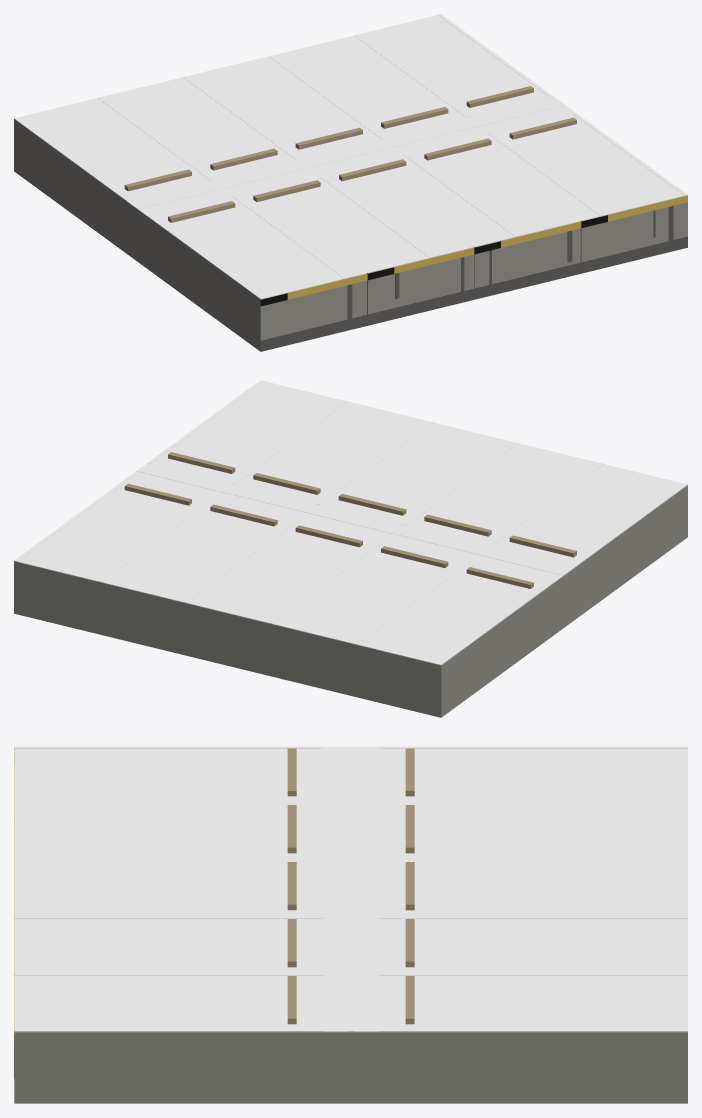
The model's file is garage_level.glb.
3 views of the same model, one above another, from view 1: azimuth 30°, elevation 25°; view 2: azimuth 150°, elevation 25°; view 3: azimuth 270°, elevation 25° (orthographic). The views are drawn at different scales.
Visible parts, largest first — view 1: garage_level_deck, garage_level_conc, garage_level_white, garage_level_conc_d, garage_level_stop, garage_level_must, garage_level_black; view 2: garage_level_deck, garage_level_conc, garage_level_white, garage_level_stop; view 3: garage_level_deck, garage_level_conc, garage_level_white, garage_level_stop.
Part boxes in pixels (box(x1,y1,x2,y2)): garage_level_deck: box(14, 15, 687, 299); garage_level_conc: box(14, 119, 687, 351); garage_level_white: box(14, 14, 687, 298); garage_level_conc_d: box(260, 206, 687, 351); garage_level_stop: box(124, 86, 576, 222); garage_level_must: box(267, 195, 687, 299); garage_level_black: box(260, 215, 607, 306); garage_level_deck: box(14, 381, 687, 665); garage_level_conc: box(14, 485, 687, 717); garage_level_white: box(14, 380, 687, 664); garage_level_stop: box(124, 452, 576, 588); garage_level_deck: box(14, 746, 687, 1032); garage_level_conc: box(14, 1032, 687, 1103); garage_level_white: box(14, 746, 687, 1031); garage_level_stop: box(287, 748, 414, 1024).
Bounding box in the file's own units: 12 × 1.53 × 12.01.
